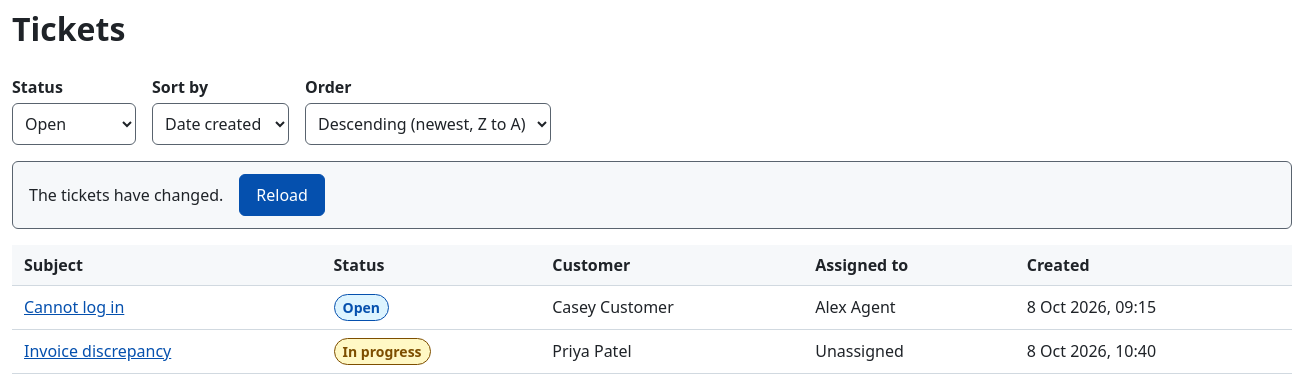
Test case: TicketListPage › when a notification arrives › asks the API again, with the same query, when Reload is clicked
Expected: the link "Cannot log in" is shown, [24,296,124,318]
Click the button "Reload".
click(282, 195)  # box [239,174,325,216]
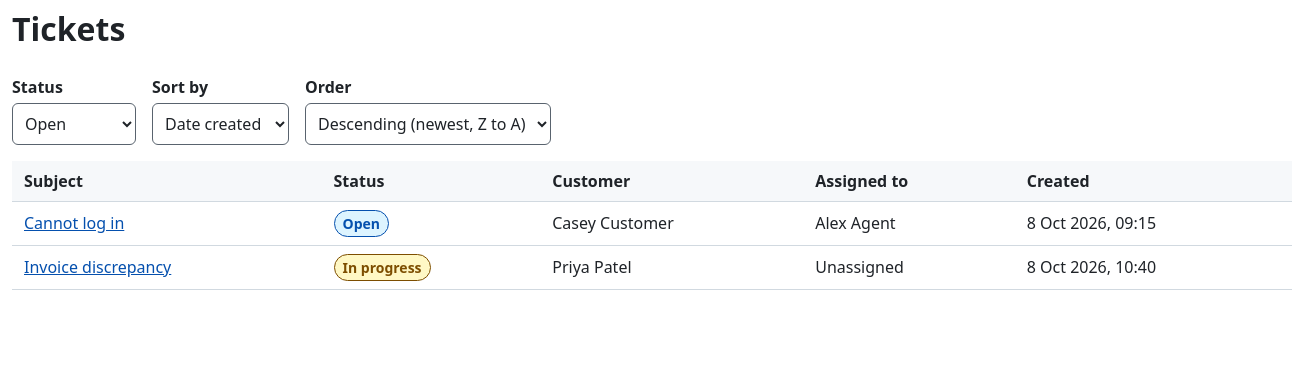
Expected: the link "Cannot log in" is shown, [24,212,124,234]
Now the text "The tickets have changed." is gone
